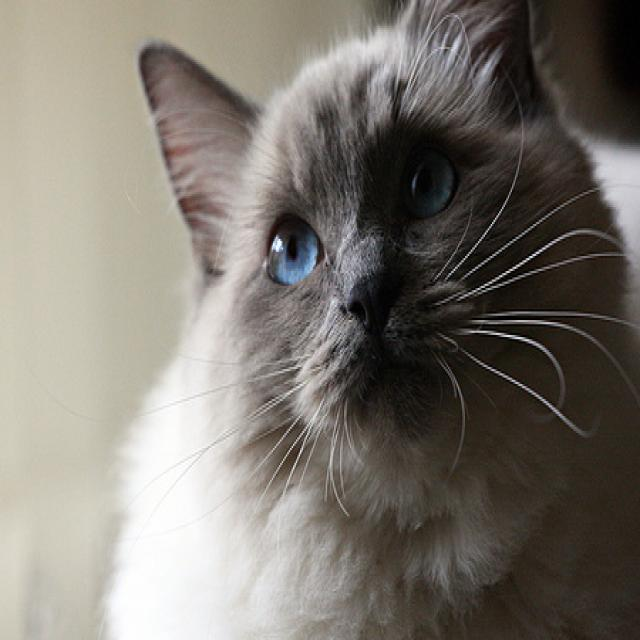Ragdoll: (98, 0, 640, 640)
